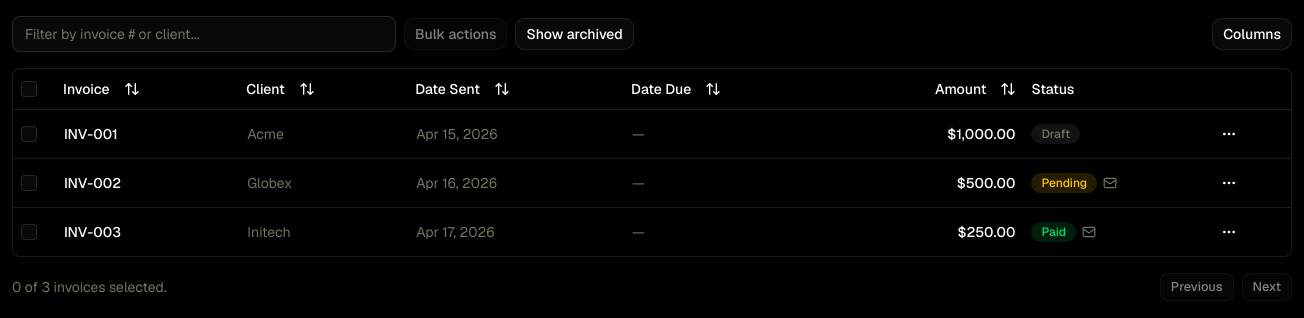
Test: InvoiceDataTable — filtering › filters rows by invoice number
In the search field with placeholder "Filter by invoice # or client...": {"x": 204, "y": 34} [12,16,396,52], type "INV-002"
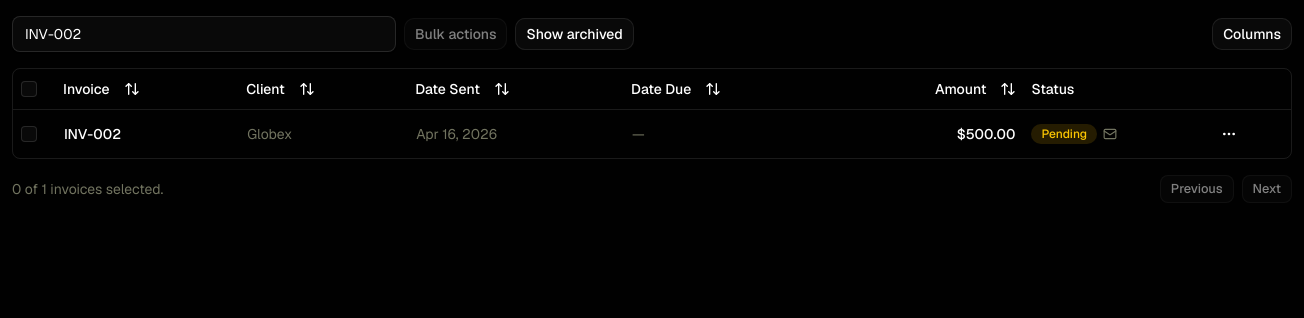
Expected: the text "Globex" is shown, [247,124,292,142]
Expected: the text "Acme" is gone
